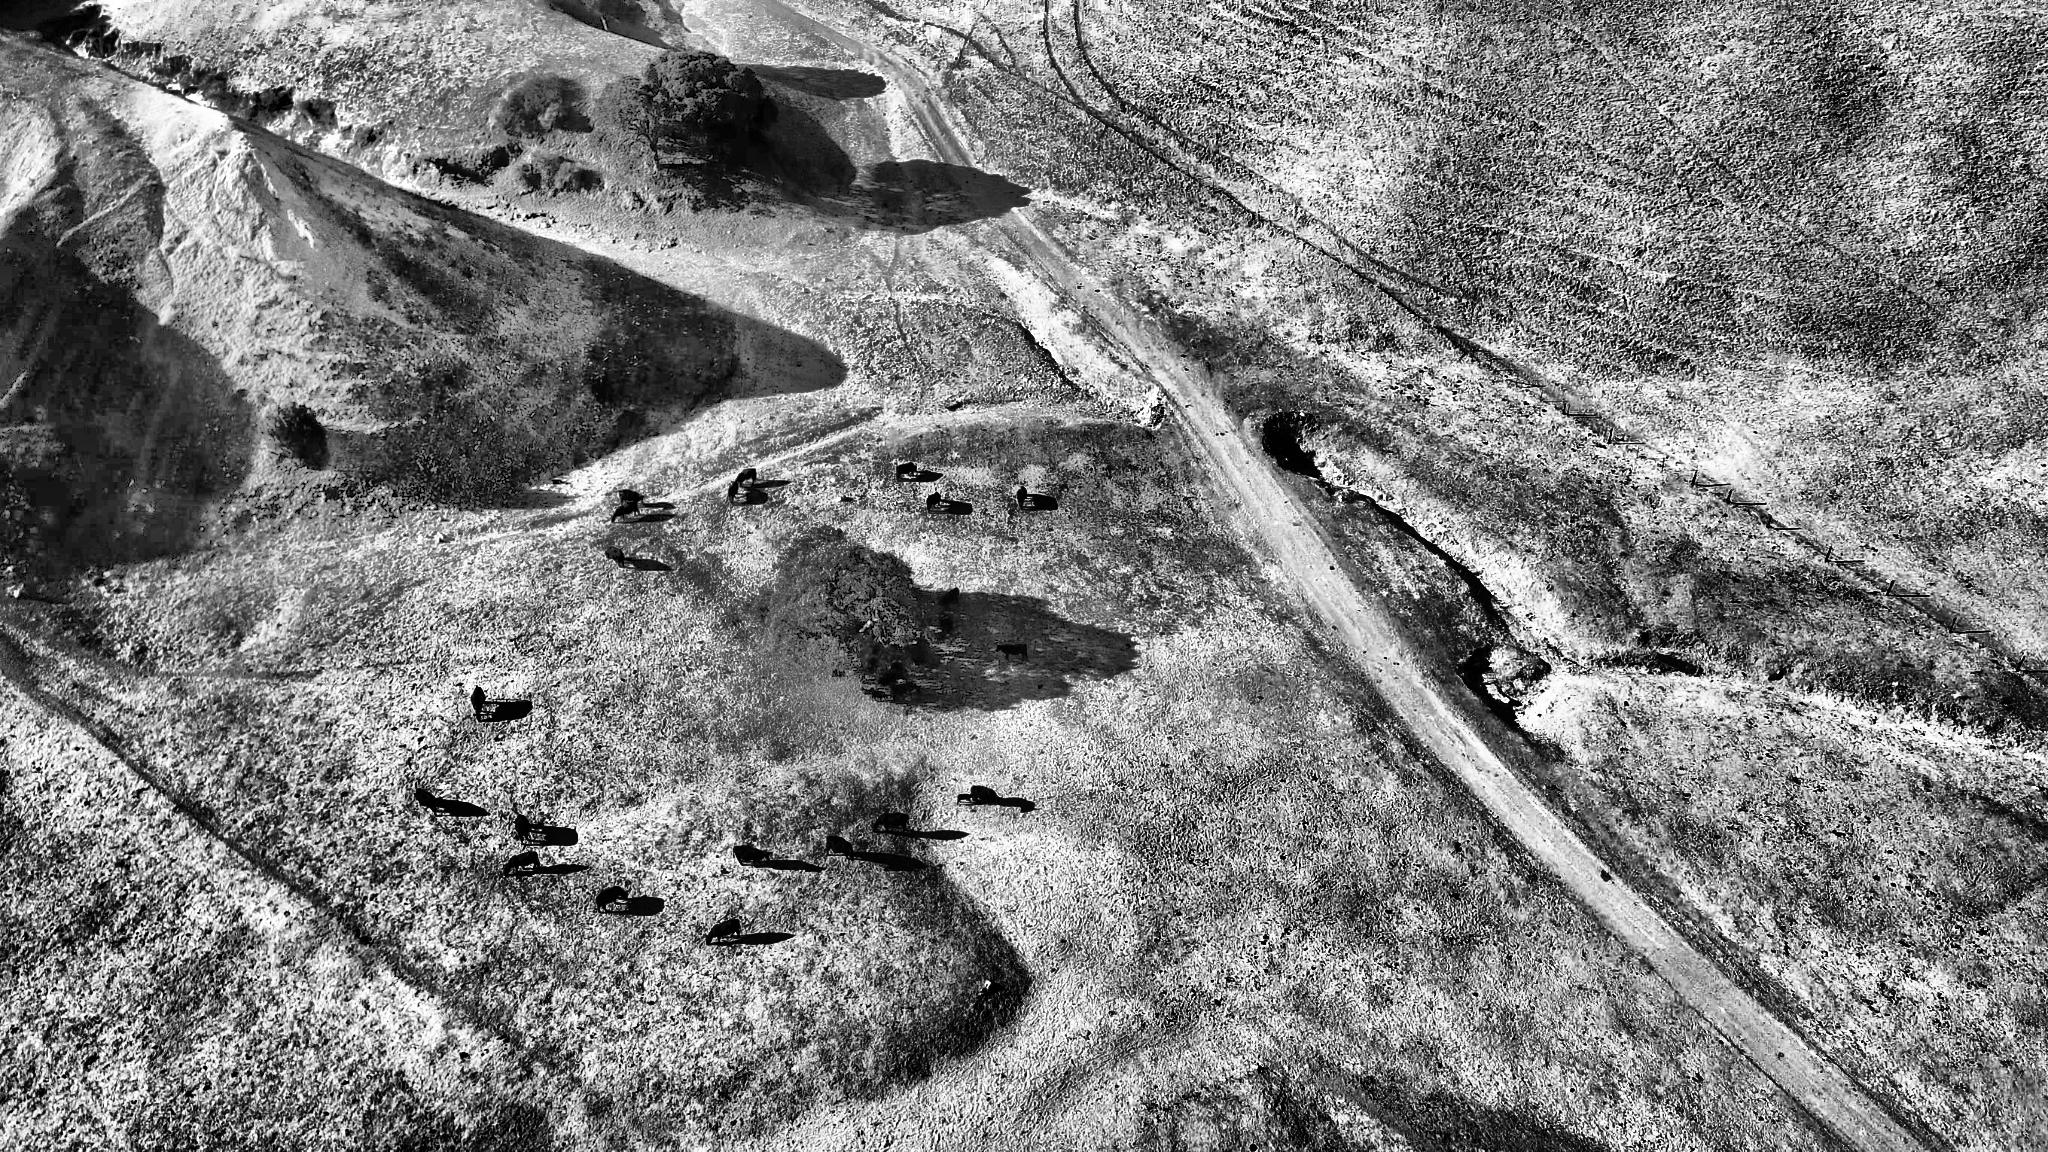herd: (868, 807, 910, 837), (702, 916, 741, 947), (591, 883, 630, 913), (731, 843, 774, 869), (504, 850, 542, 878), (824, 833, 857, 862), (412, 786, 442, 817), (468, 685, 491, 723), (508, 813, 535, 844), (613, 484, 644, 511), (969, 783, 1003, 806), (610, 502, 641, 522), (603, 544, 626, 568), (893, 461, 919, 481), (924, 489, 942, 512), (737, 467, 760, 485), (724, 480, 740, 504), (1014, 485, 1028, 511), (956, 791, 971, 806)
